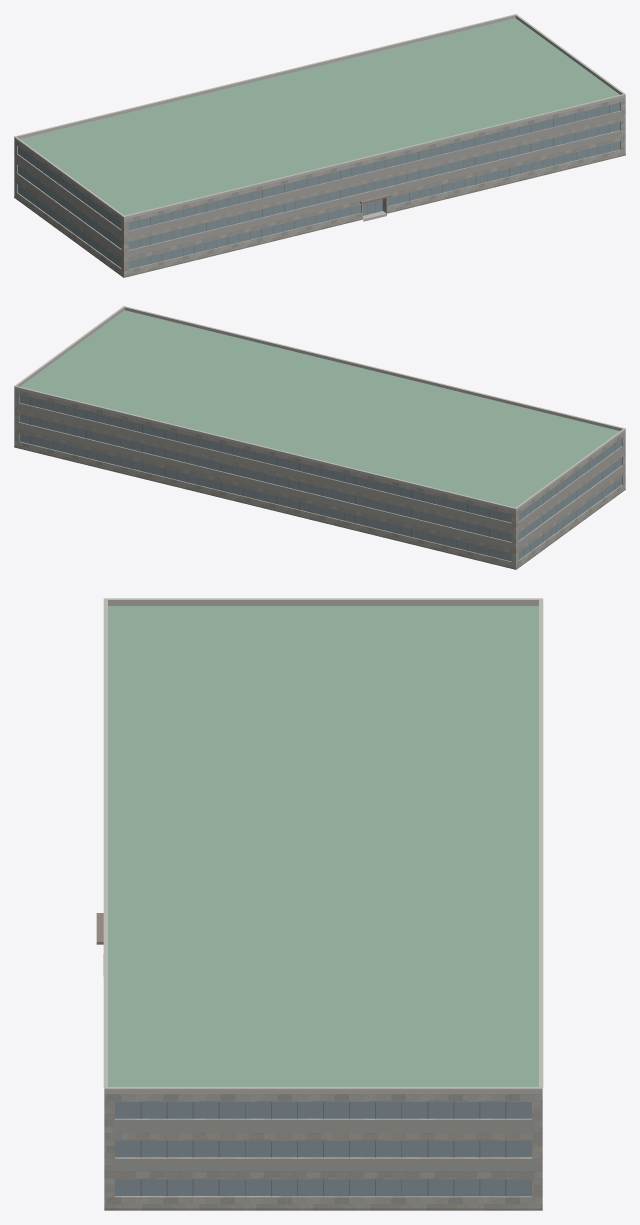
3 renders of one model, top to bottom at view 1: azimuth 30°, elevation 25°; view 2: azimuth 150°, elevation 25°; view 3: azimuth 270°, elevation 25°, orthographic. The views are drawn at different scales.
Visible parts, largest first — view 1: osm631011016__roof, osm631011016__glass, osm631011016__wall, osm631011016__wall2, osm631011016__parapet, osm631011016__trim, osm631011016__frame, osm631011016__base; view 2: osm631011016__roof, osm631011016__glass, osm631011016__wall, osm631011016__wall2, osm631011016__parapet, osm631011016__trim, osm631011016__frame, osm631011016__base; view 3: osm631011016__roof, osm631011016__glass, osm631011016__wall, osm631011016__wall2, osm631011016__trim, osm631011016__parapet, osm631011016__base, osm631011016__frame.
Part boxes in pixels (bbox=[...]): osm631011016__roof: bbox=[20, 18, 619, 215]; osm631011016__glass: bbox=[18, 102, 620, 269]; osm631011016__wall: bbox=[14, 97, 625, 277]; osm631011016__wall2: bbox=[16, 111, 621, 257]; osm631011016__parapet: bbox=[14, 15, 625, 219]; osm631011016__trim: bbox=[14, 14, 625, 217]; osm631011016__frame: bbox=[24, 105, 609, 266]; osm631011016__base: bbox=[14, 154, 625, 277]; osm631011016__roof: bbox=[20, 310, 619, 507]; osm631011016__glass: bbox=[19, 394, 621, 561]; osm631011016__wall: bbox=[14, 389, 625, 569]; osm631011016__wall2: bbox=[18, 403, 623, 549]; osm631011016__parapet: bbox=[14, 307, 625, 511]; osm631011016__trim: bbox=[14, 306, 625, 509]; osm631011016__frame: bbox=[30, 397, 615, 558]; osm631011016__base: bbox=[14, 446, 625, 569]; osm631011016__roof: bbox=[108, 606, 538, 1086]; osm631011016__glass: bbox=[115, 1102, 531, 1196]; osm631011016__wall: bbox=[104, 1094, 542, 1208]; osm631011016__wall2: bbox=[112, 1120, 534, 1171]; osm631011016__trim: bbox=[103, 598, 543, 1089]; osm631011016__parapet: bbox=[104, 600, 542, 1094]; osm631011016__base: bbox=[104, 1208, 542, 1210]; osm631011016__frame: bbox=[140, 1102, 506, 1196].
Size of the model in its own units: 97.81 by 11.75 by 37.65.
11 materials, 2 textured.
